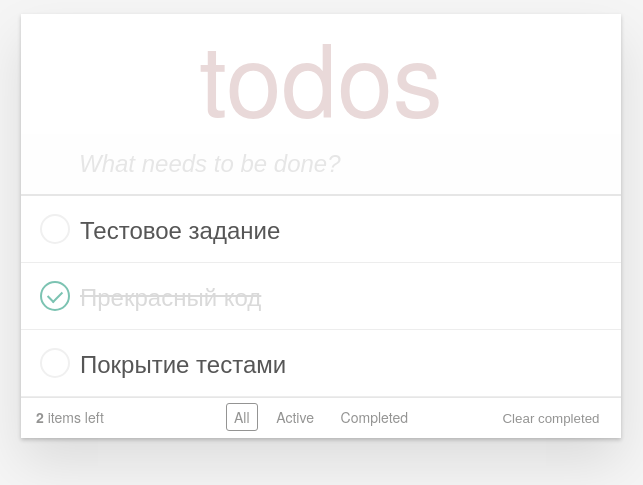
App Component › filters active items
This screenshot has width=643, height=485.
Click the link "Active". click: (295, 417)
box: [276,407,314,427]
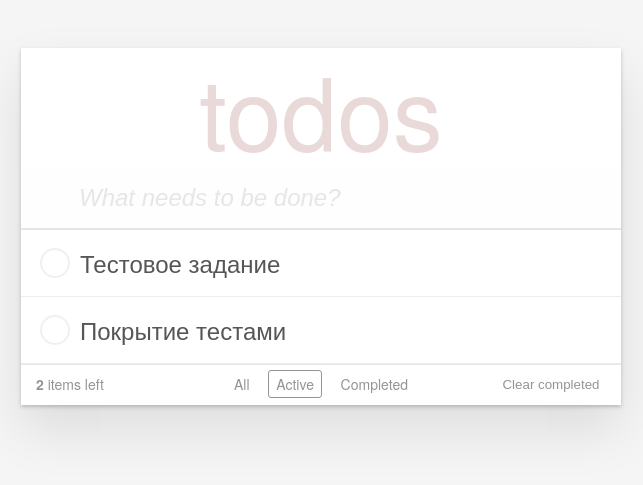
Now the text "Прекрасный код" is gone
